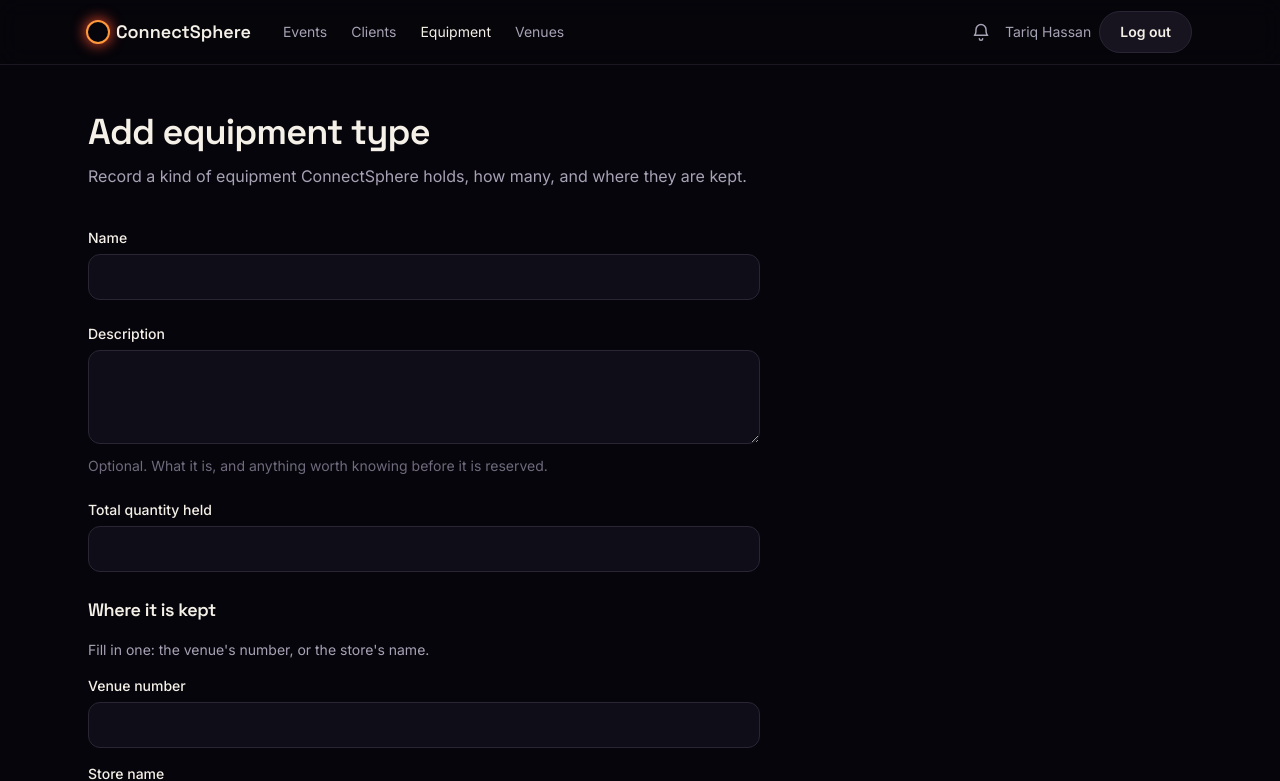
Test: SCRUM-27 adding an equipment type › shows the backend's message for a name another type has
Type "Projector" into the field labelled "Name" at x=424, y=277, box [88,254,760,300]
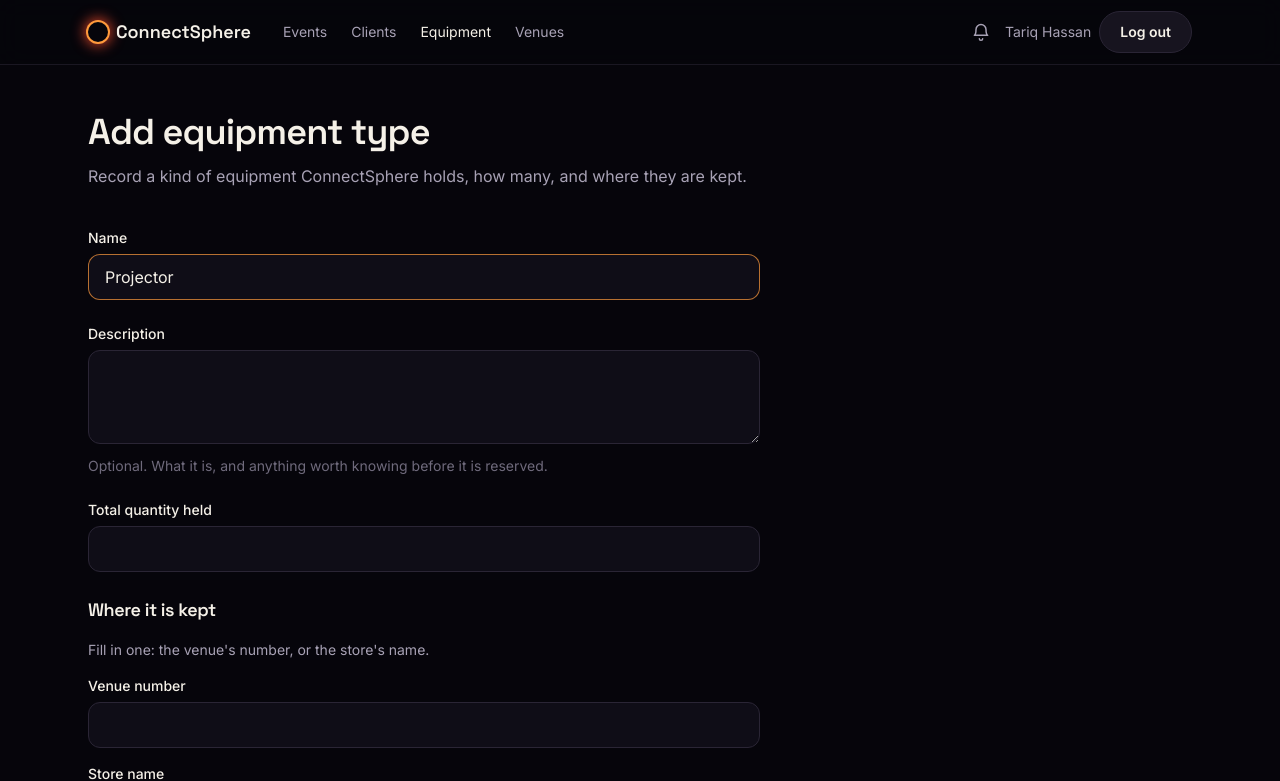
Type "2" into the number field labelled "Total quantity held" at x=424, y=549, box [88,526,760,572]
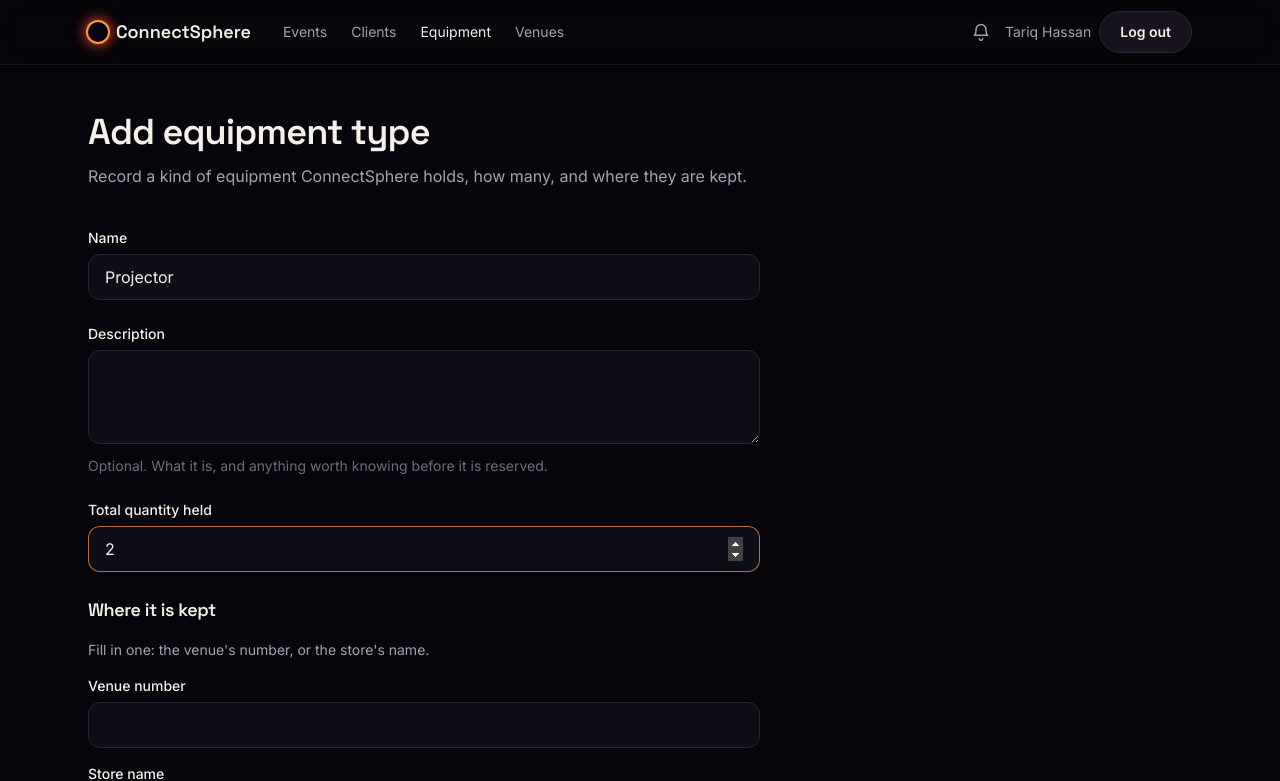
Type "1" into the number field labelled "Venue number" at x=424, y=725, box [88,702,760,748]
(page scrolled)
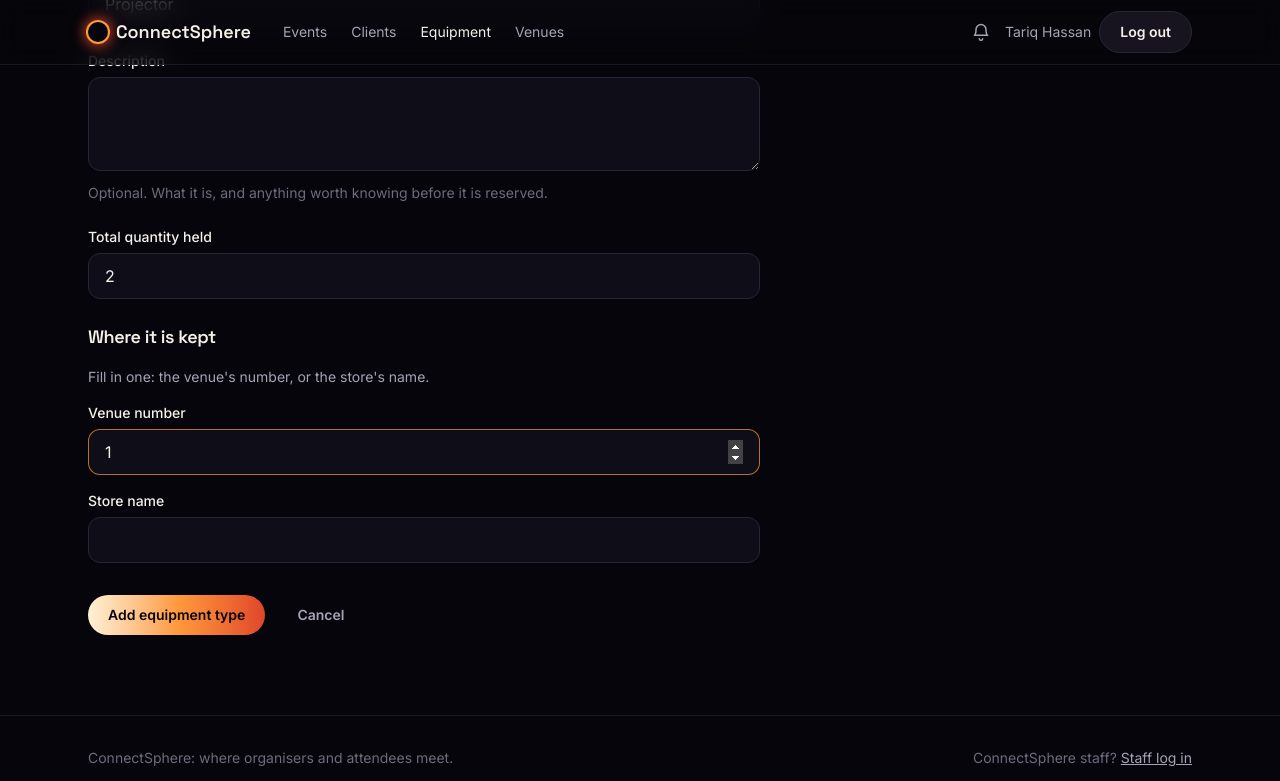
Click the button "Add equipment type" at x=177, y=615, box [88,595,265,635]
(page scrolled)
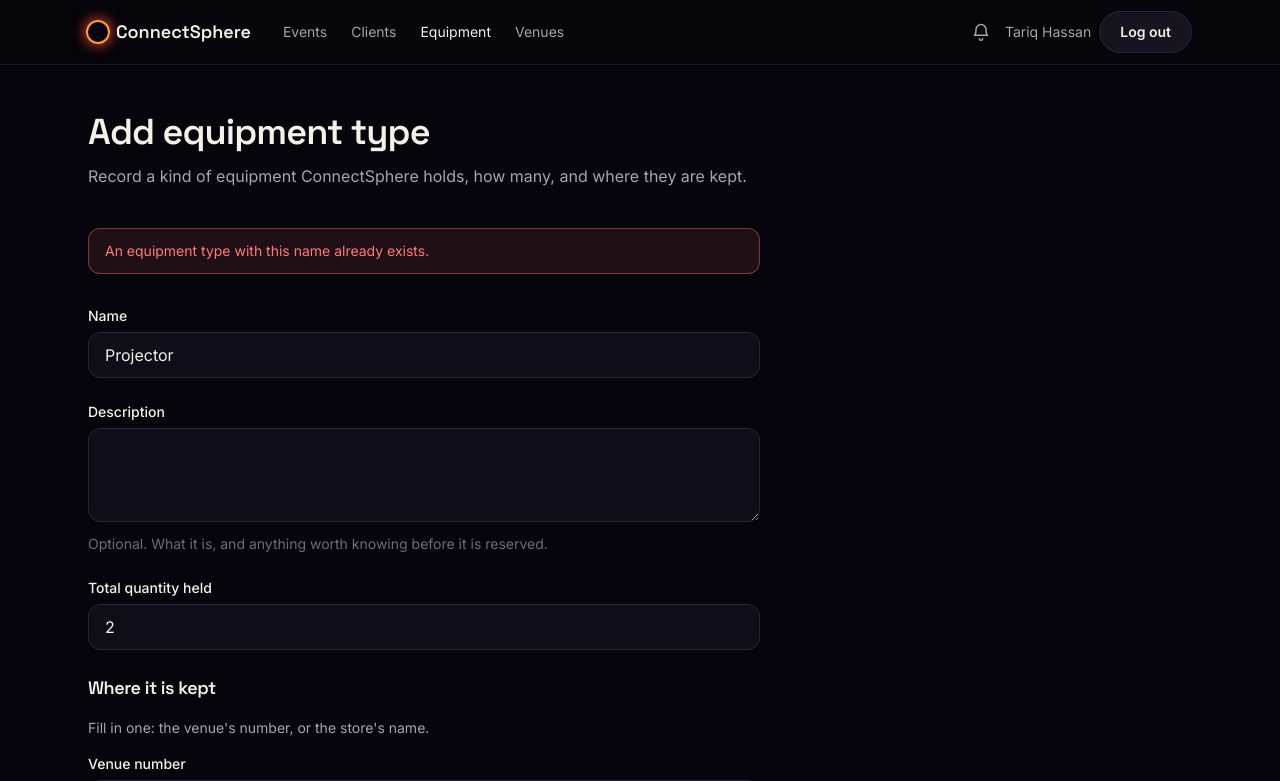
Now the message reads "An equipment type with this name already exists.", box [105,242,429,259]
